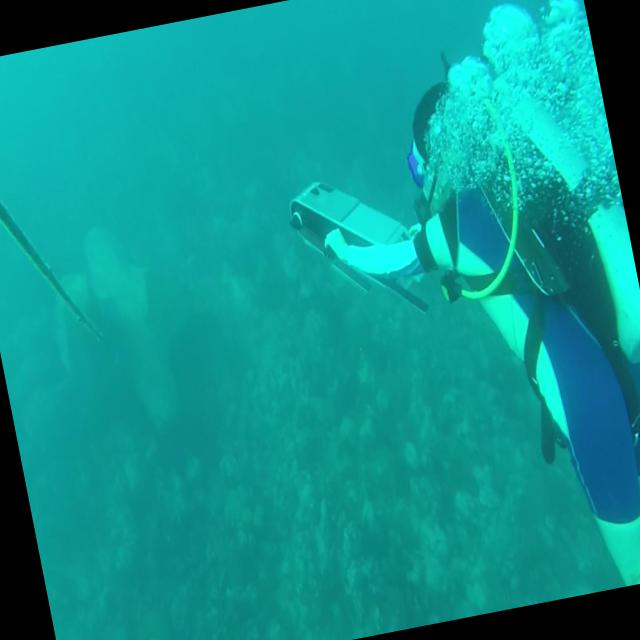human: (279, 28, 640, 633)
